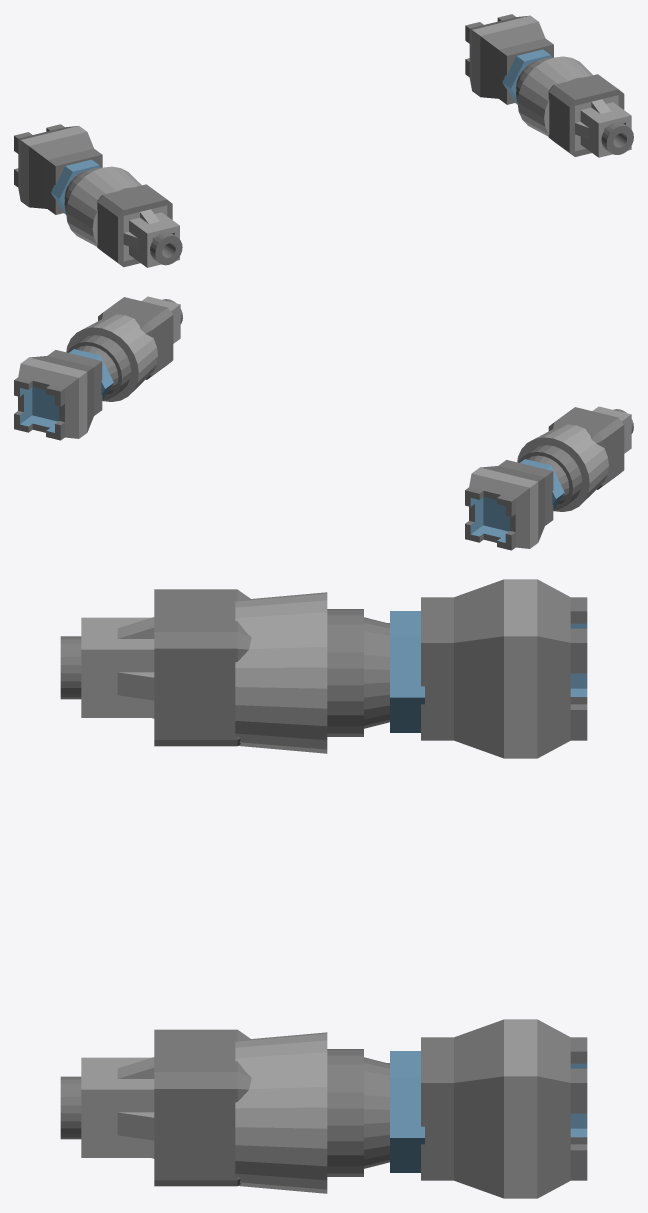
The model's file is Ship Blasters.fbx.
The picture shows the model from 3 angles, top to bottom: view 1: azimuth 30°, elevation 25°; view 2: azimuth 150°, elevation 25°; view 3: azimuth 270°, elevation 25°; orthographic projection. The views are drawn at different scales.
Visible parts, largest first — view 1: Left, Right; view 2: Right, Left; view 3: Right, Left.
Part boxes in pixels (box(x1,y1,x2,y2)): Left: box(465, 14, 633, 157); Right: box(14, 124, 182, 267); Right: box(465, 406, 633, 550); Left: box(14, 296, 182, 440); Right: box(60, 579, 587, 758); Left: box(60, 1019, 587, 1198).
Bounding box in the file's own units: 581 × 76.98 × 253.
